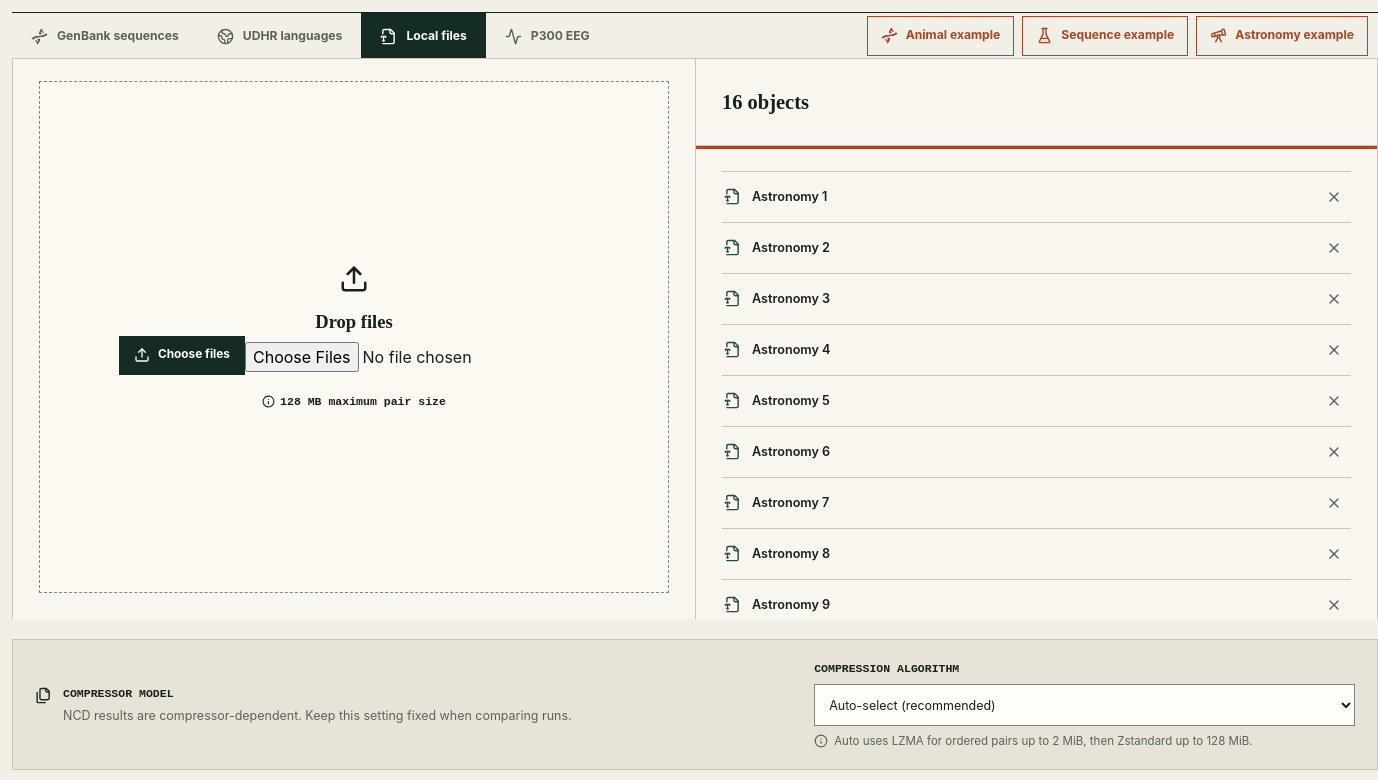
Scenario: NCD workbench › offers the P300 corpus as a dedicated source with explicit analysis modes
The width and height of the screenshot is (1378, 780).
Click the tab "P300 EEG": (547, 36) x1=486 y1=13 x2=609 y2=58
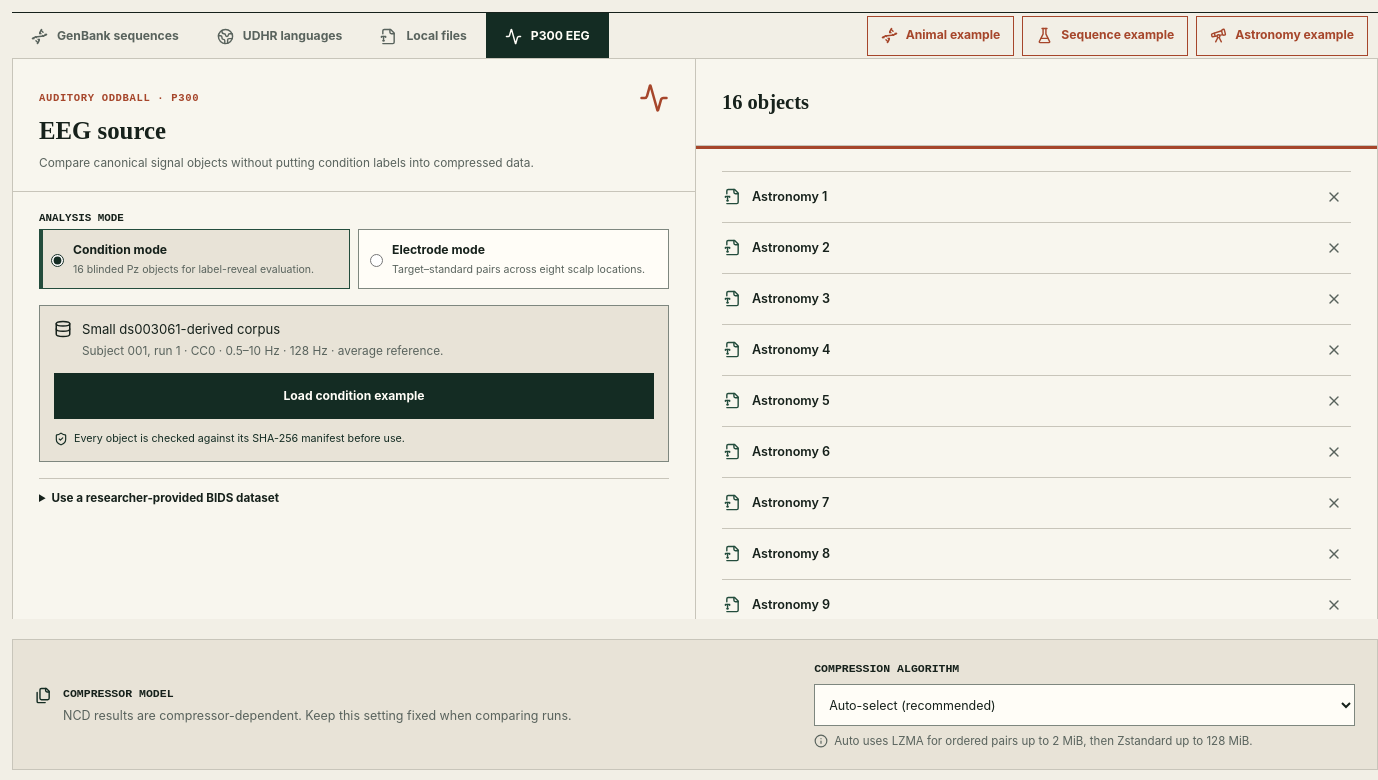
Result: the heading "EEG source" is shown at x1=39 y1=117 x2=166 y2=144
Result: the radio button labelled "Condition mode" is checked at x1=51 y1=244 x2=64 y2=277
Click the button "Load condition example": (354, 396) x1=54 y1=373 x2=654 y2=419
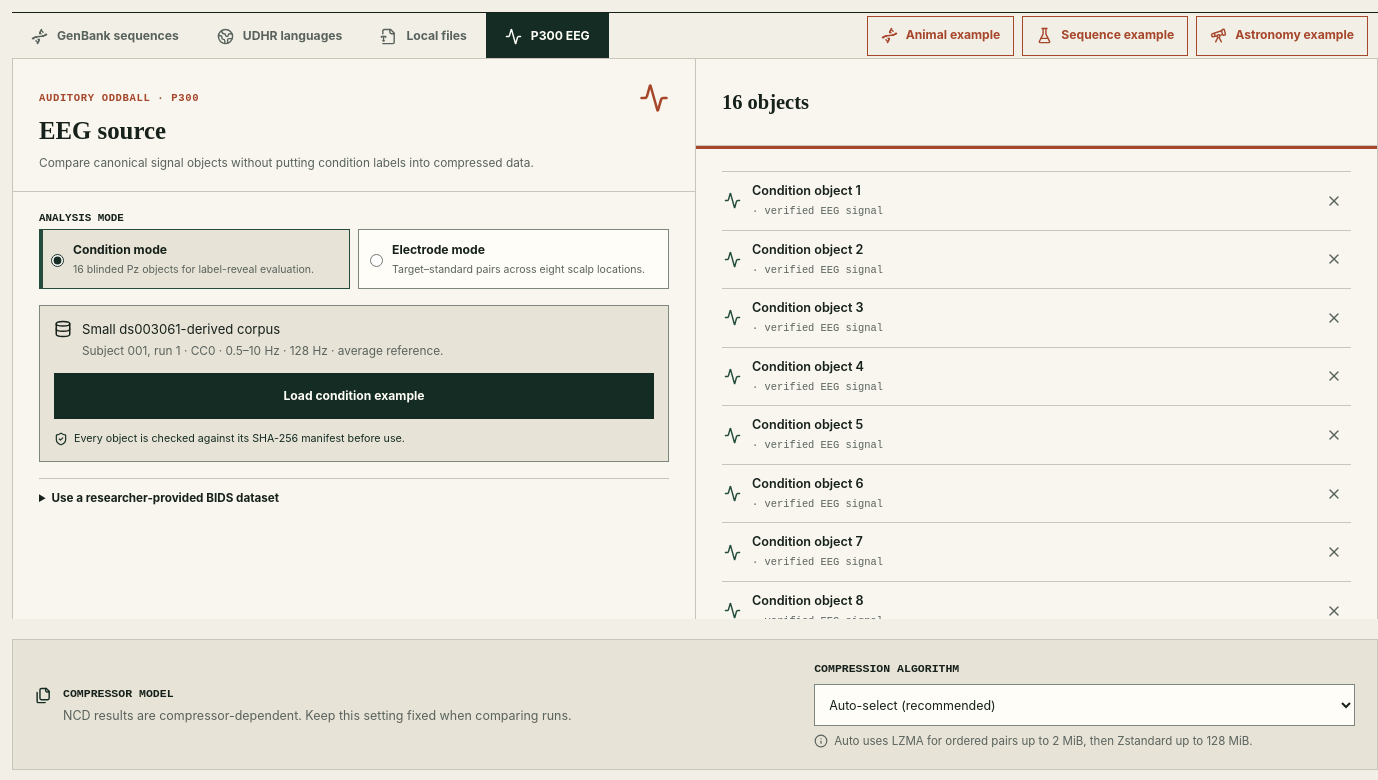
Expected: the text "16 objects" is shown, x1=722 y1=87 x2=809 y2=117
Result: the text "Condition object 1" is shown at x1=752 y1=183 x2=861 y2=198
